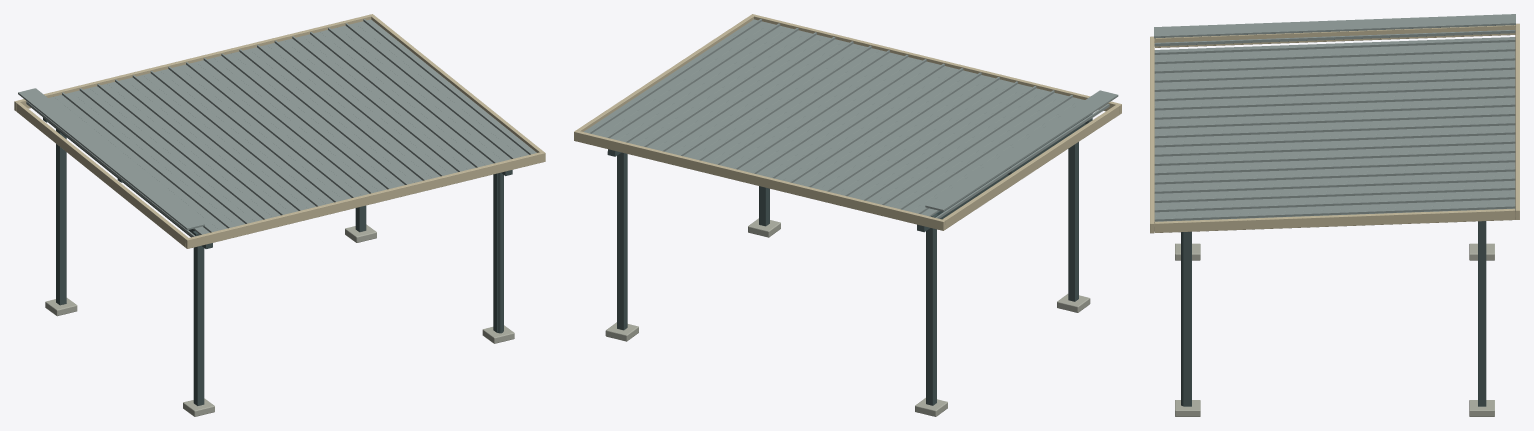
Rendered from source-edit.glb.
3 views of the same model, side by side, from view 1: azimuth 30°, elevation 25°; view 2: azimuth 150°, elevation 25°; view 3: azimuth 270°, elevation 25° (orthographic). The views are drawn at different scales.
Parts seen in each view (by area): view 1: FASCIA_End, ROOF_Sheet_0, ROOF_Sheet_13, ROOF_Sheet_11, ROOF_Sheet_18, ROOF_Sheet_2, ROOF_Sheet_14, ROOF_Sheet_17, ROOF_Sheet_10, ROOF_Sheet_15, ROOF_Sheet_4, ROOF_Sheet_6 (+35 smaller); view 2: FASCIA_End.001, ROOF_Sheet_0, ROOF_Sheet_3, ROOF_Sheet_13, ROOF_Sheet_6, ROOF_Sheet_10, ROOF_Sheet_16, ROOF_Sheet_2, ROOF_Sheet_5, ROOF_Sheet_7, ROOF_Sheet_9, ROOF_Sheet_4 (+35 smaller); view 3: FASCIA_Side.001, ROOF_Sheet_0, ROOF_Sheet_10, ROOF_Sheet_14, ROOF_Sheet_18, ROOF_Sheet_7, ROOF_Sheet_11, ROOF_Sheet_12, ROOF_Sheet_3, ROOF_Sheet_6, FASCIA_Side, ROOF_Sheet_15 (+37 smaller).
Boxes of the visible parts, <box> form: FASCIA_End: <box>185,151,545,248</box>; ROOF_Sheet_0: <box>18,88,204,230</box>; ROOF_Sheet_13: <box>249,45,432,182</box>; ROOF_Sheet_11: <box>213,53,396,191</box>; ROOF_Sheet_18: <box>337,23,520,160</box>; ROOF_Sheet_2: <box>54,92,236,230</box>; ROOF_Sheet_14: <box>267,40,449,178</box>; ROOF_Sheet_17: <box>320,27,503,165</box>; ROOF_Sheet_10: <box>196,58,378,195</box>; ROOF_Sheet_15: <box>284,36,467,173</box>; ROOF_Sheet_4: <box>89,84,272,221</box>; ROOF_Sheet_6: <box>125,75,307,212</box>; FASCIA_End.001: <box>574,130,945,230</box>; ROOF_Sheet_0: <box>925,90,1118,211</box>; ROOF_Sheet_3: <box>874,90,1062,207</box>; ROOF_Sheet_13: <box>691,45,879,162</box>; ROOF_Sheet_6: <box>819,77,1007,193</box>; ROOF_Sheet_10: <box>746,59,934,175</box>; ROOF_Sheet_16: <box>636,32,824,149</box>; ROOF_Sheet_2: <box>893,95,1080,211</box>; ROOF_Sheet_5: <box>838,81,1025,198</box>; ROOF_Sheet_7: <box>801,72,989,189</box>; ROOF_Sheet_9: <box>764,63,952,180</box>; ROOF_Sheet_4: <box>856,86,1044,202</box>; FASCIA_Side.001: <box>1154,208,1515,232</box>; ROOF_Sheet_0: <box>1154,14,1515,38</box>; ROOF_Sheet_10: <box>1154,120,1515,142</box>; ROOF_Sheet_14: <box>1154,157,1515,179</box>; ROOF_Sheet_18: <box>1154,194,1515,216</box>; ROOF_Sheet_7: <box>1154,92,1515,114</box>; ROOF_Sheet_11: <box>1154,129,1515,151</box>; ROOF_Sheet_12: <box>1154,138,1515,160</box>; ROOF_Sheet_3: <box>1154,55,1515,77</box>; ROOF_Sheet_6: <box>1154,83,1515,105</box>; FASCIA_Side: <box>1154,25,1515,47</box>; ROOF_Sheet_15: <box>1154,166,1515,188</box>.
Size of the model in its own units: 5.86 by 3.32 by 4.9.
